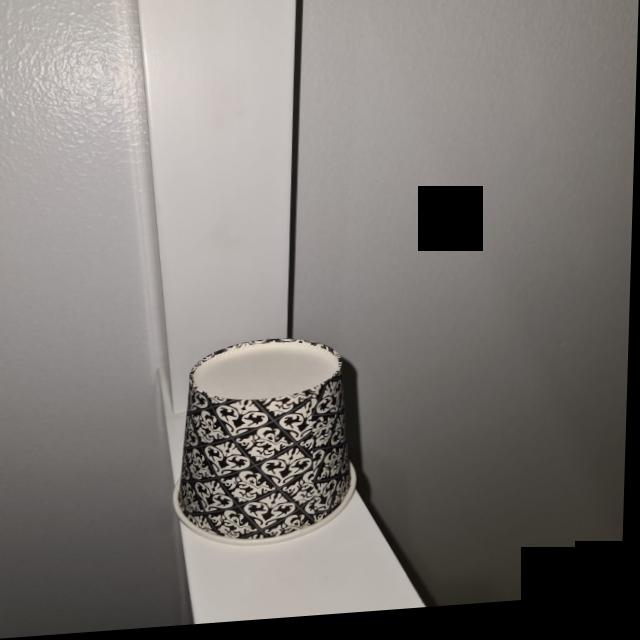cups: (168, 335, 369, 550)
